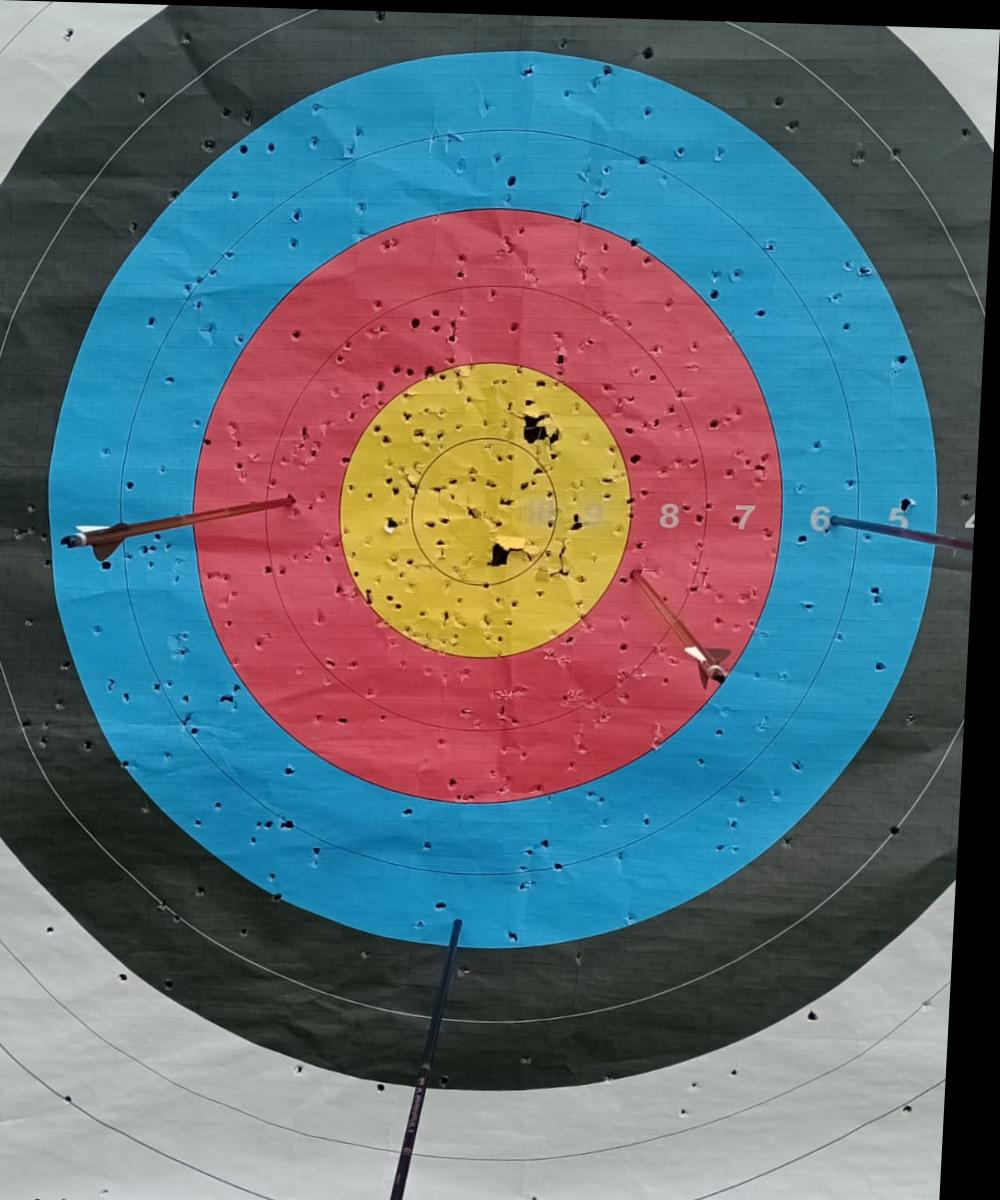10-Ring: (392, 411, 588, 608)
2-Ring: (0, 0, 1000, 1173)
3-Ring: (0, 0, 998, 1099)
4-Ring: (0, 0, 995, 1035)
6-Ring: (115, 115, 879, 885)
7-Ring: (192, 199, 793, 806)
8-Ring: (182, 194, 804, 815)
9-Ring: (306, 320, 675, 695)
Arrow: (63, 464, 299, 570), (402, 917, 472, 1200), (613, 566, 749, 690), (835, 510, 981, 545)
